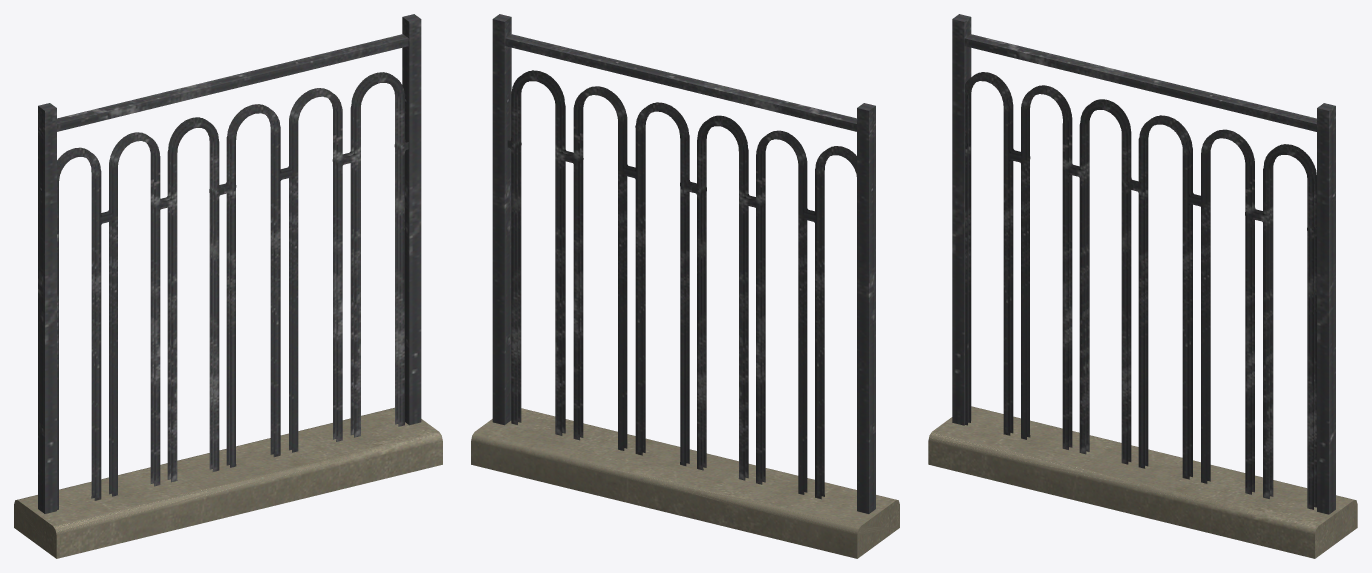
Rendered from Fence_09.fbx.
3 views of the same model, side by side, from view 1: azimuth 30°, elevation 25°; view 2: azimuth 150°, elevation 25°; view 3: azimuth 330°, elevation 25° (orthographic).
Parts seen in each view (by area): view 1: Fence_09; view 2: Fence_09; view 3: Fence_09.
Boxes of the visible parts, x1,y1,x2,y2 form: Fence_09: [14, 14, 442, 558]; Fence_09: [471, 14, 899, 558]; Fence_09: [928, 14, 1357, 558].
Bounding box in the file's own units: 100 × 107 × 19.05.
